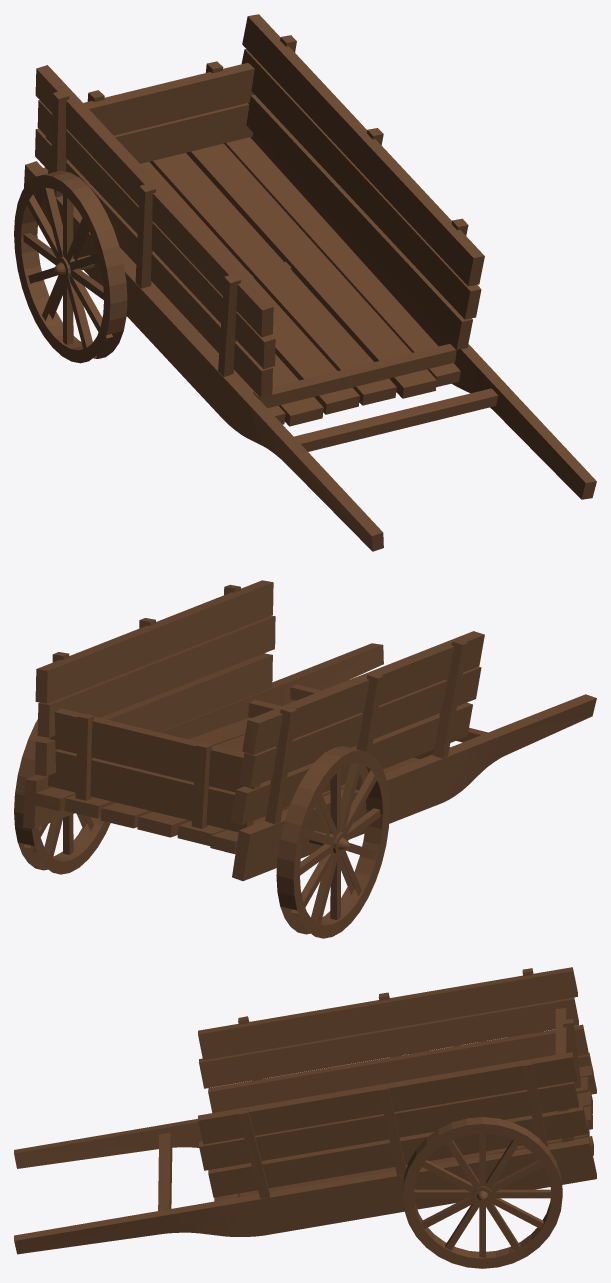
Rendered from prop_wagon.obj.
3 views of the same model, one above another, from view 1: azimuth 30°, elevation 25°; view 2: azimuth 150°, elevation 25°; view 3: azimuth 270°, elevation 25° (orthographic). The views are drawn at different scales.
Size of the model in its own units: 1.95 by 1.53 by 4.02.
